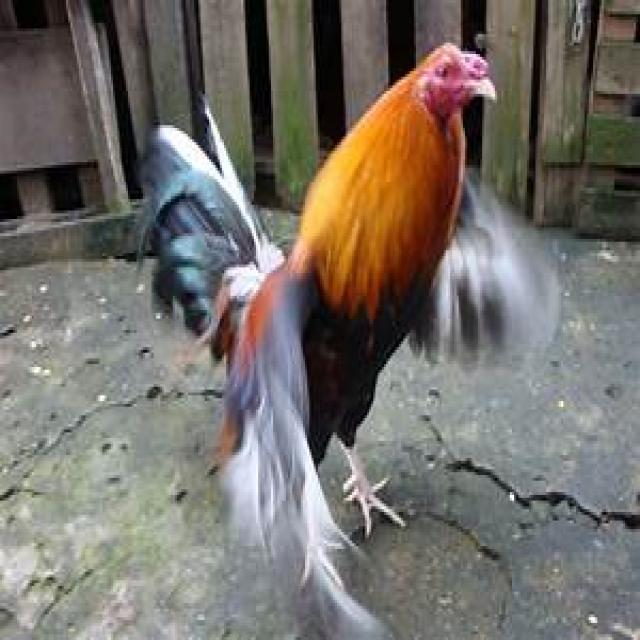hen: (141, 46, 499, 640)
